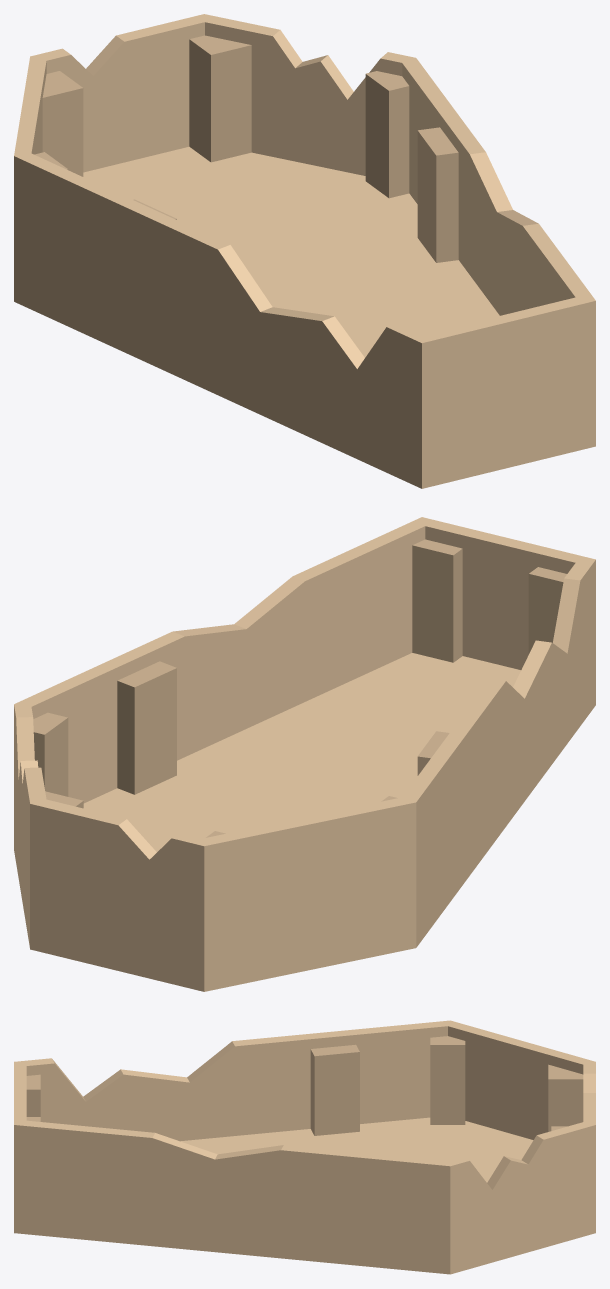
File: coffinOld.glb
The picture shows the model from 3 angles, top to bottom: view 1: azimuth 30°, elevation 25°; view 2: azimuth 150°, elevation 25°; view 3: azimuth 270°, elevation 25°; orthographic projection. The views are drawn at different scales.
Visible parts, largest first — view 1: coffinOld(Clone); view 2: coffinOld(Clone); view 3: coffinOld(Clone).
Boxes of the visible parts, x1,y1,x2,y2 form: coffinOld(Clone): [14, 14, 595, 488]; coffinOld(Clone): [14, 517, 595, 991]; coffinOld(Clone): [14, 1020, 595, 1274].
Size of the model in its own units: 0.5928 by 0.2052 by 1.
